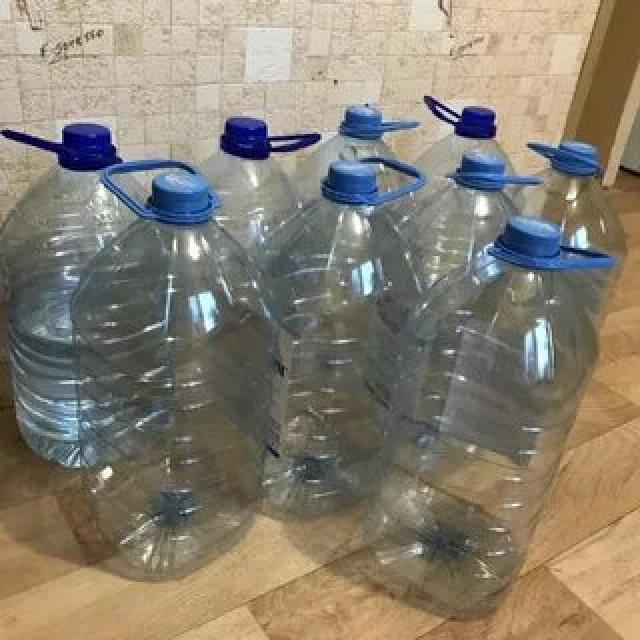blue: (358, 260, 602, 622), (75, 214, 268, 584), (265, 196, 412, 522)
